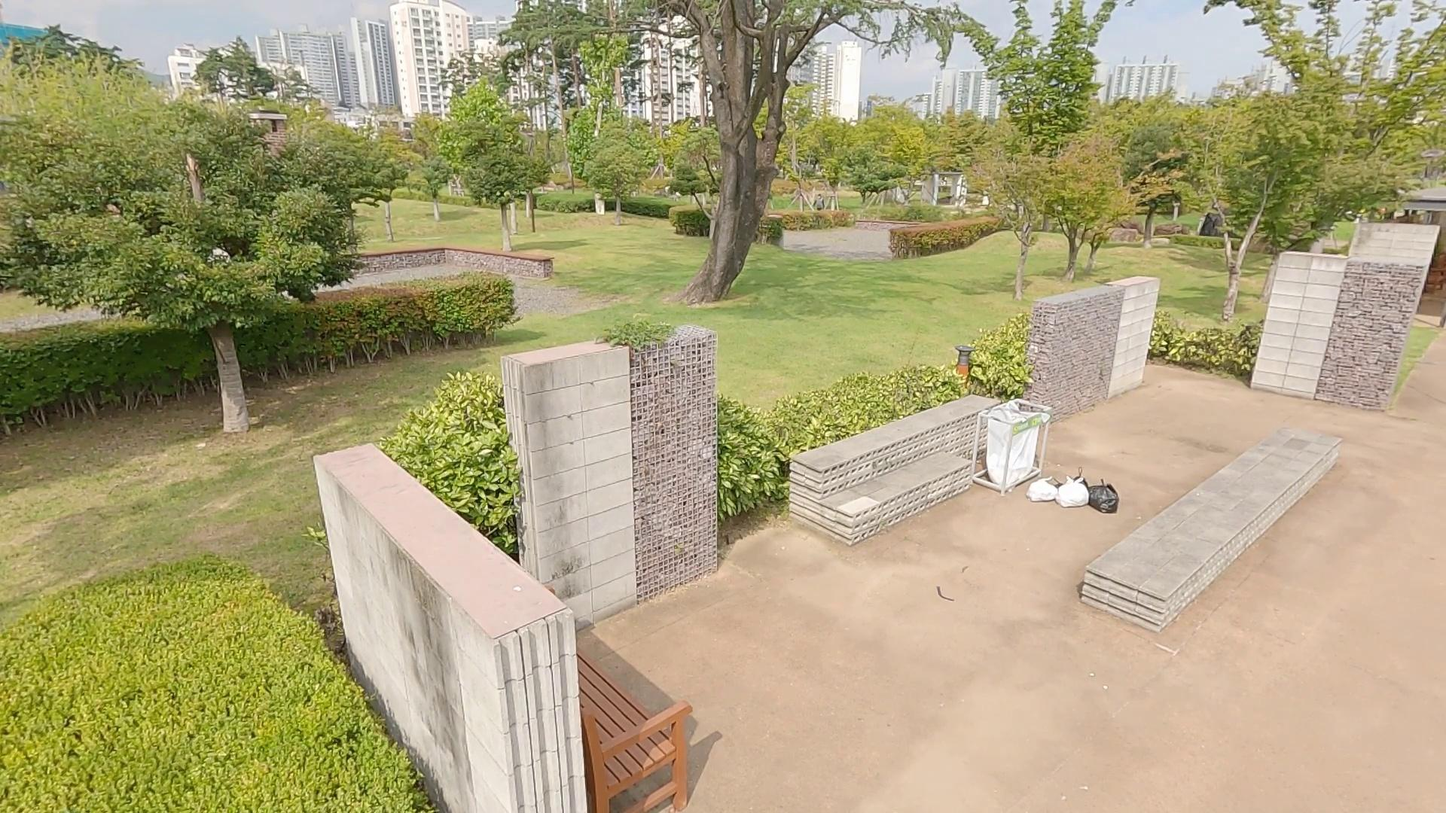trash: (1089, 478, 1120, 516), (1057, 476, 1089, 509), (1063, 467, 1089, 504), (1027, 476, 1059, 503)
